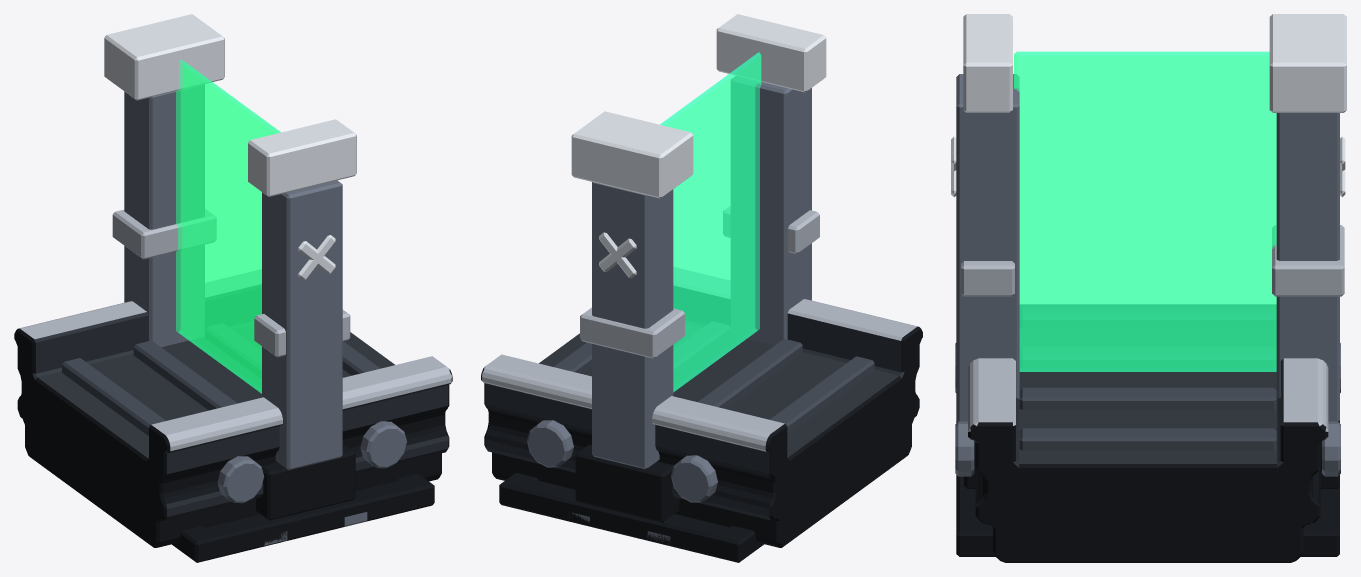
Rendered from upgrader-mult.glb.
3 renders of one model, left to right at view 1: azimuth 30°, elevation 25°; view 2: azimuth 150°, elevation 25°; view 3: azimuth 270°, elevation 25°, orthographic. The views are drawn at different scales.
Visible parts, largest first — view 1: upgrader-mult; view 2: upgrader-mult; view 3: upgrader-mult.
Boxes of the visible parts, <box> form: upgrader-mult: <box>14,14,452,562</box>; upgrader-mult: <box>481,14,922,562</box>; upgrader-mult: <box>951,14,1346,562</box>.
Size of the model in its own units: 1 by 1.3 by 1.03.
